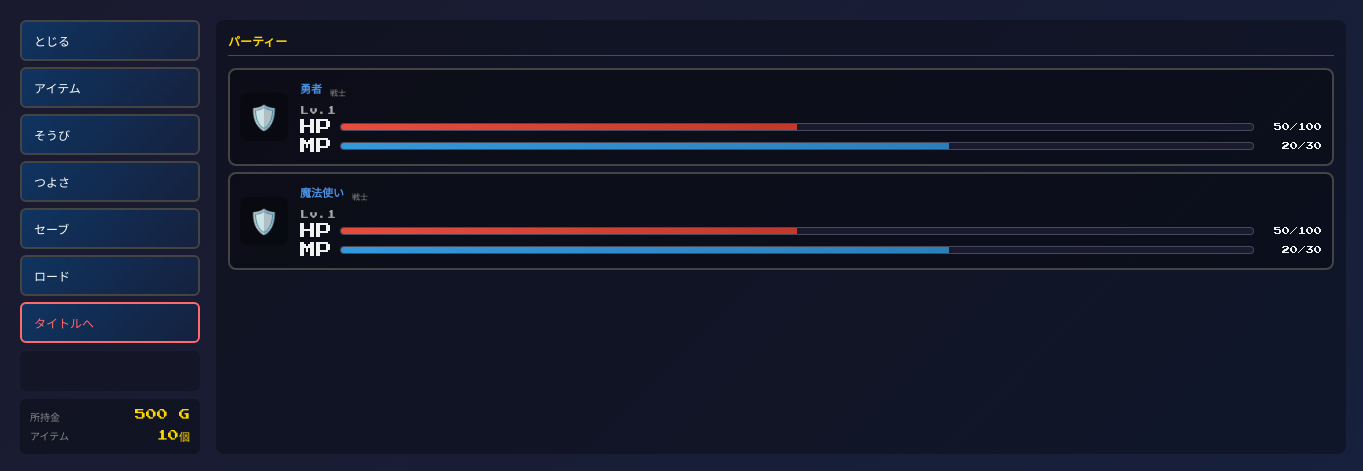
Test case: MainMenu › ホバー説明 › メニュー項目にホバーすると説明が表示される
Hover over the button "アイテム": (110, 88) [20,67,200,108]
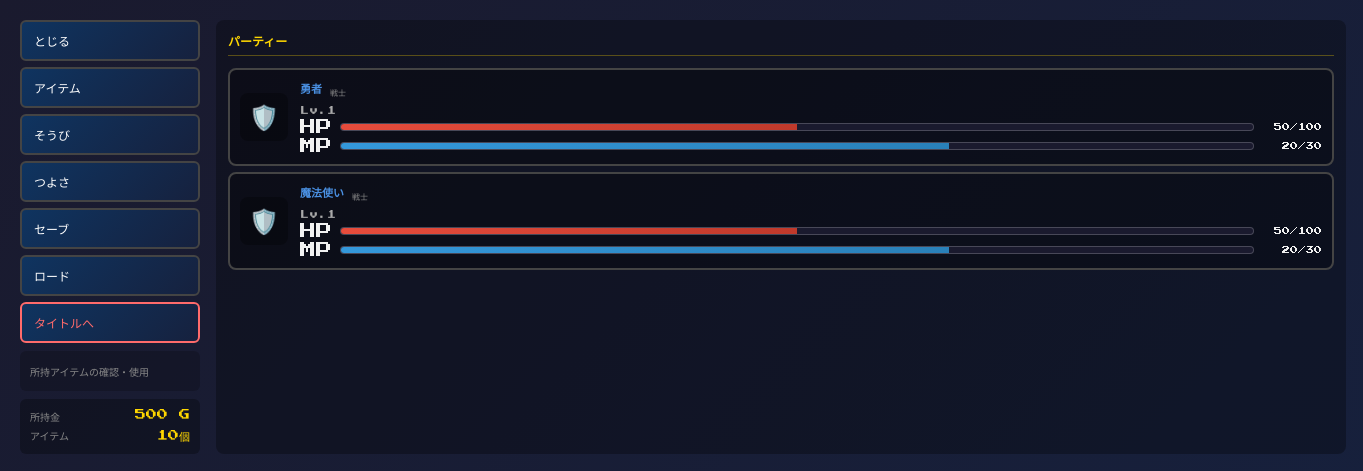
expect the text "所持アイテムの確認・使用" is shown: met, box [20,351,200,391]
